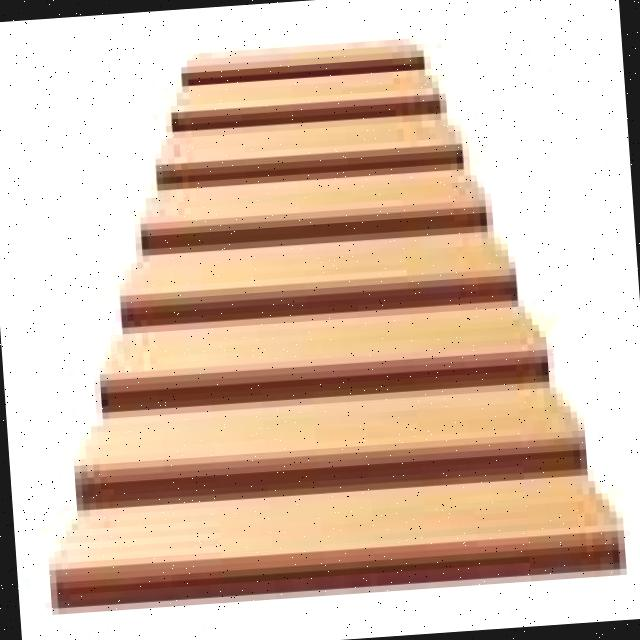stairs: (6, 12, 626, 608)
